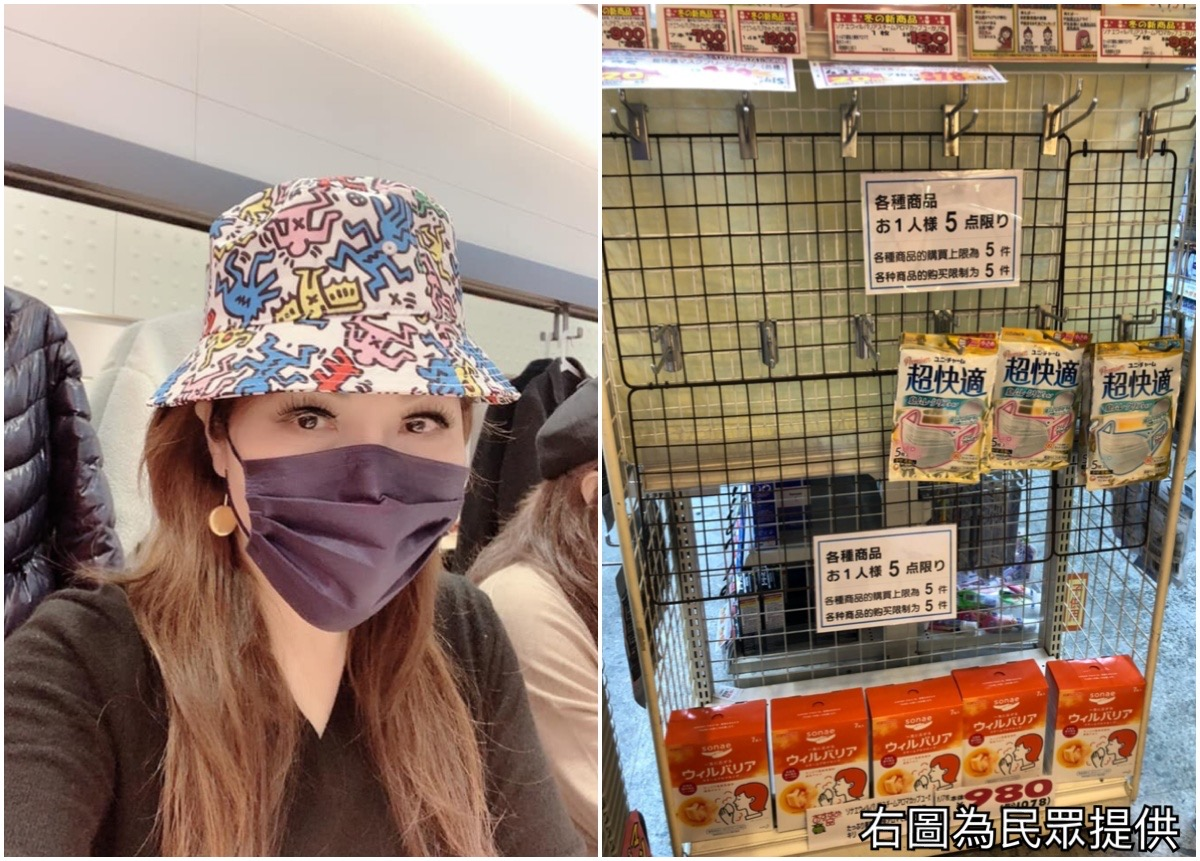Mask: (202, 368, 473, 615)
